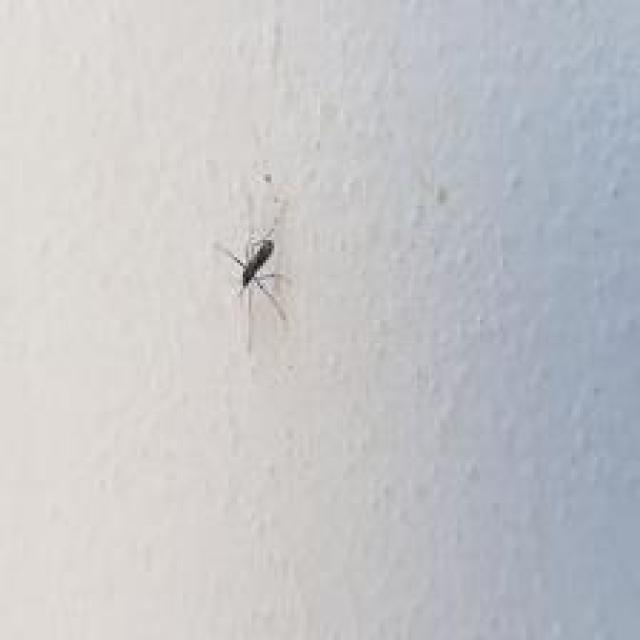Aedes albopictus: (216, 175, 293, 352)
